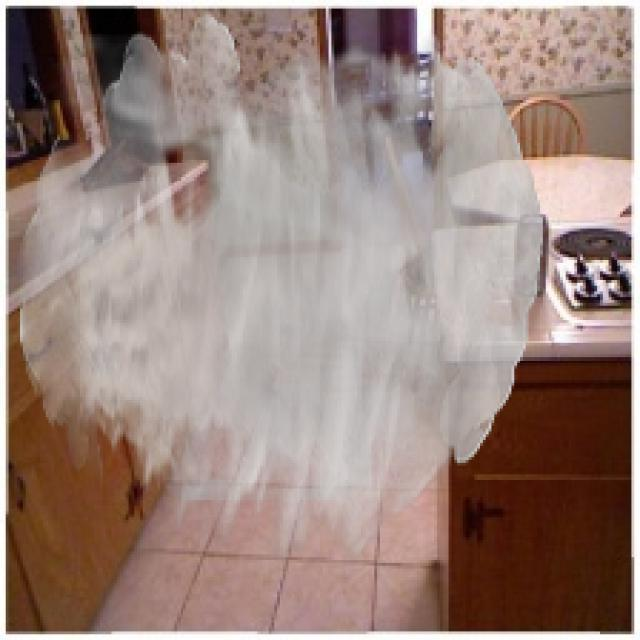Smoke: (17, 11, 543, 566)
